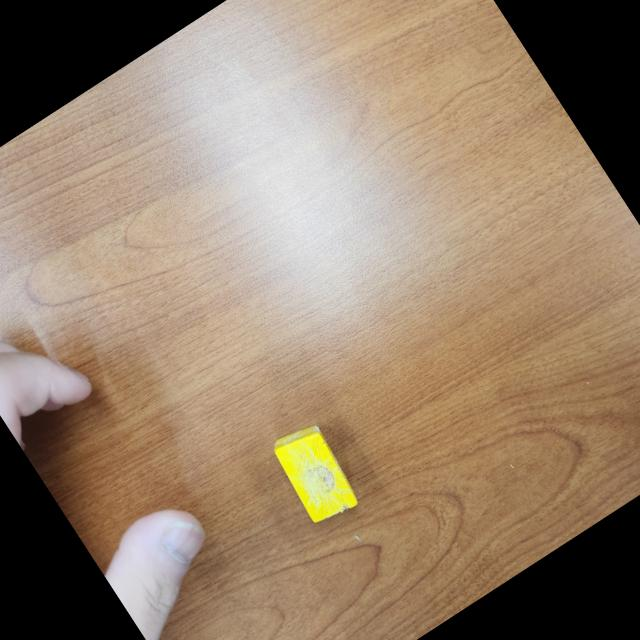broken: (264, 414, 366, 530)
